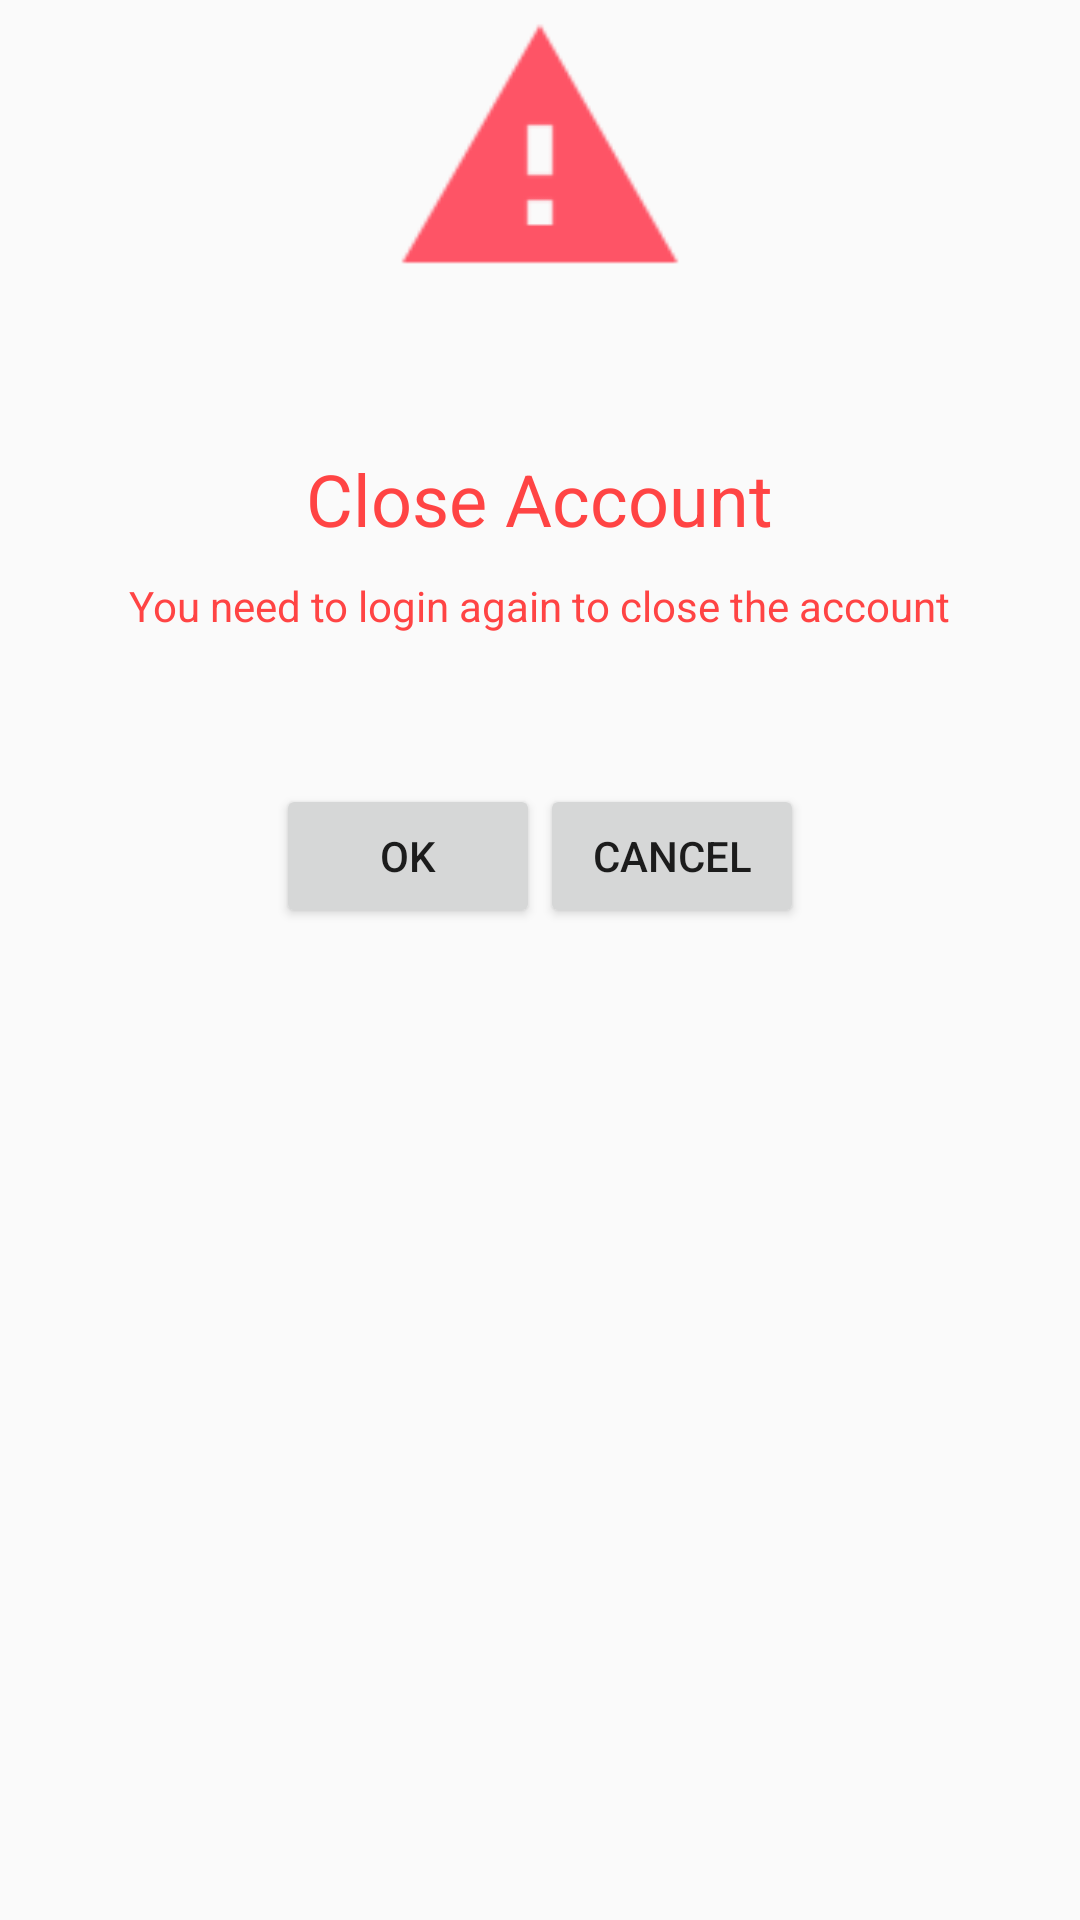

Where to tap for icons on this 1080*1920 app screen, as point (x, y):
warning: point (540, 144)
